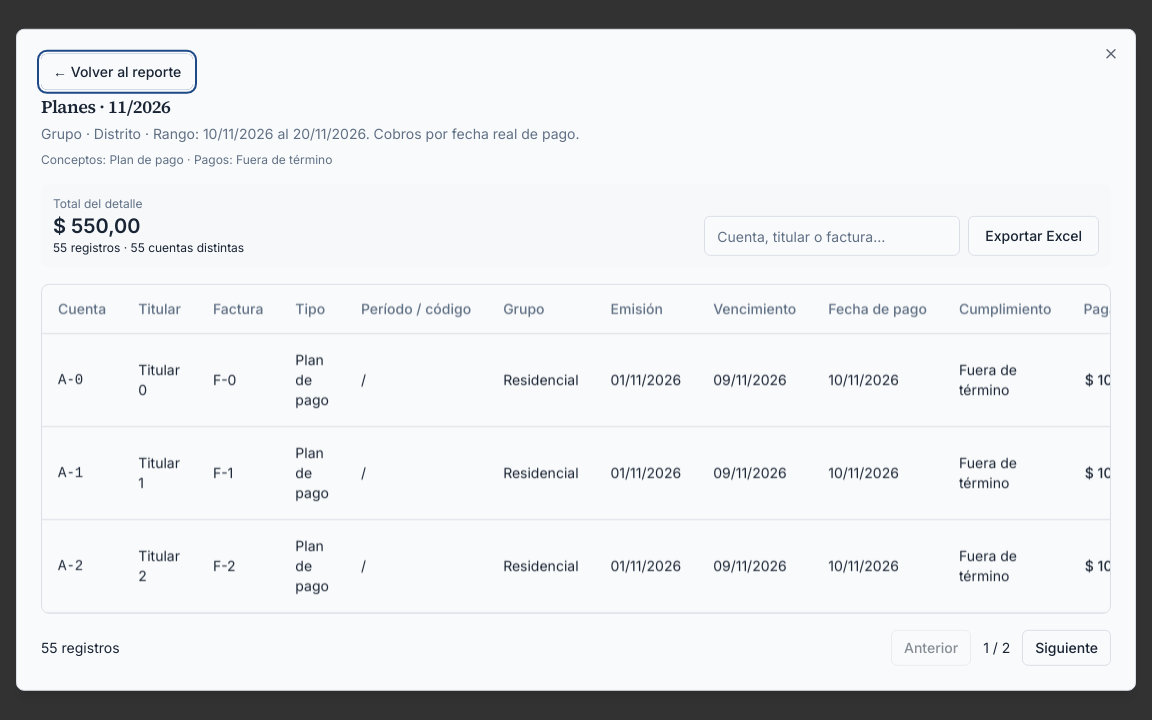
Scenario: consulta el detalle, pagina, busca y vuelve conservando el reporte
The width and height of the screenshot is (1152, 720).
Later steps or results of the test are not shown.
Expected: the text "55 registros · 55 cuentas distintas" is shown, left=53, top=240, right=244, bottom=256
Click the button "Siguiente" at (1067, 648), box left=1022, top=630, right=1111, bottom=666
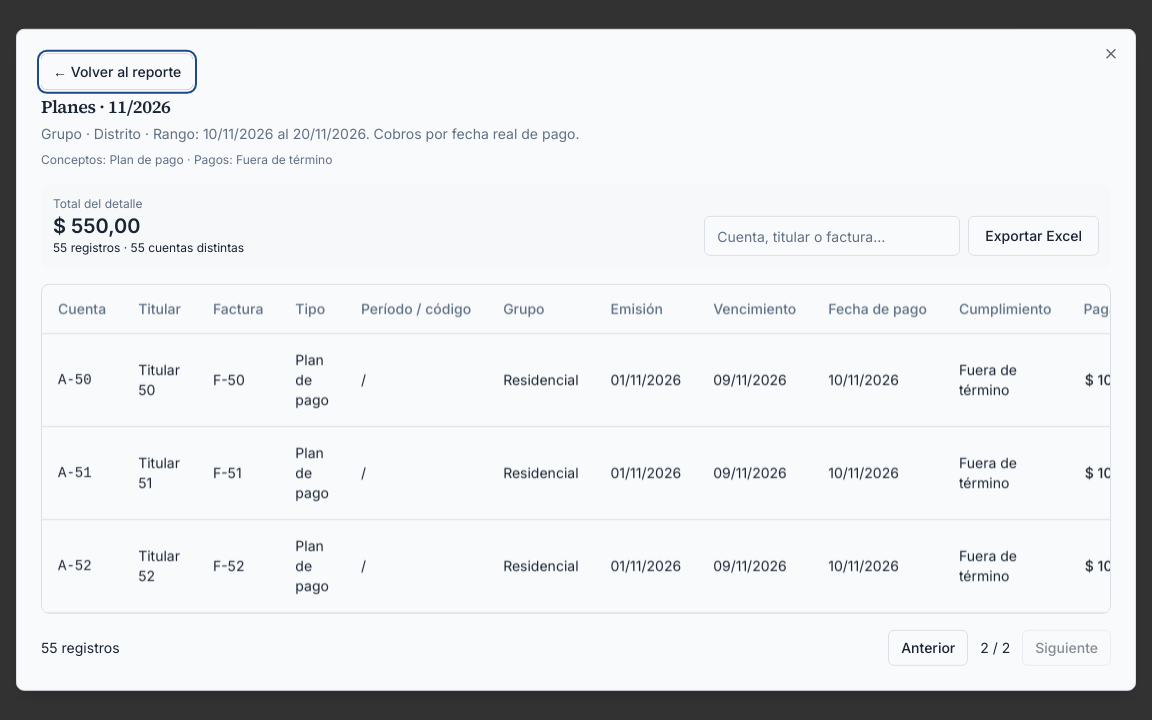
Type "F-12" into the field named "Buscar cuenta, titular o factura" at (832, 236), box left=704, top=216, right=960, bottom=256
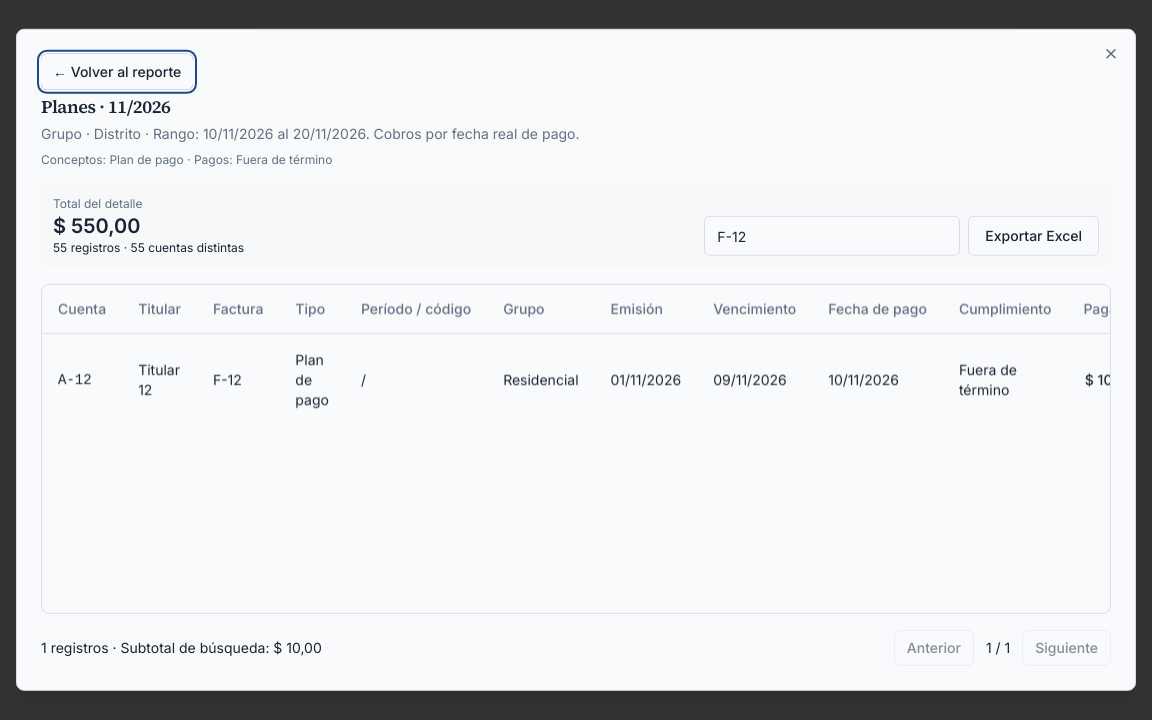
Expected: the text "F-12" is shown, left=197, top=333, right=279, bottom=425
